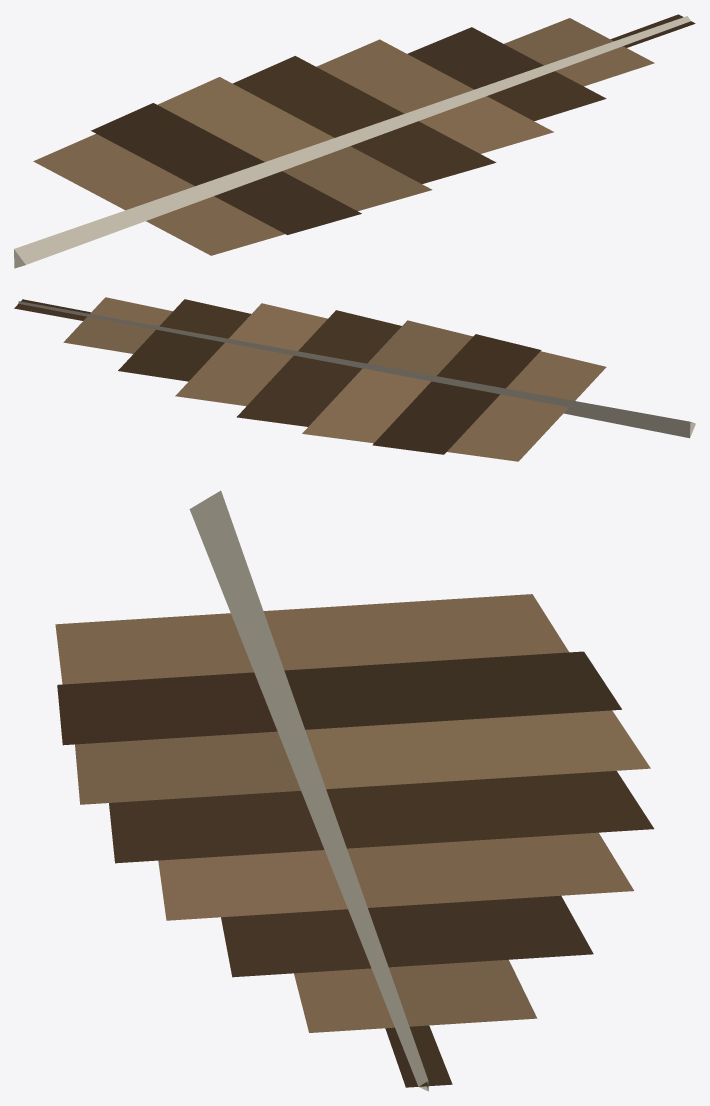
File: feather_owl.glb
3 renders of one model, top to bottom at view 1: azimuth 30°, elevation 25°; view 2: azimuth 150°, elevation 25°; view 3: azimuth 270°, elevation 25°, orthographic. The views are drawn at different scales.
Parts seen in each view (by area): view 1: feather_owl; view 2: feather_owl; view 3: feather_owl.
Part boxes in pixels (bbox=[...]): feather_owl: bbox=[14, 14, 695, 268]; feather_owl: bbox=[14, 297, 695, 461]; feather_owl: bbox=[55, 490, 654, 1091].
Bounding box in the file's own units: 0.1687 × 0.00622 × 0.0704.
